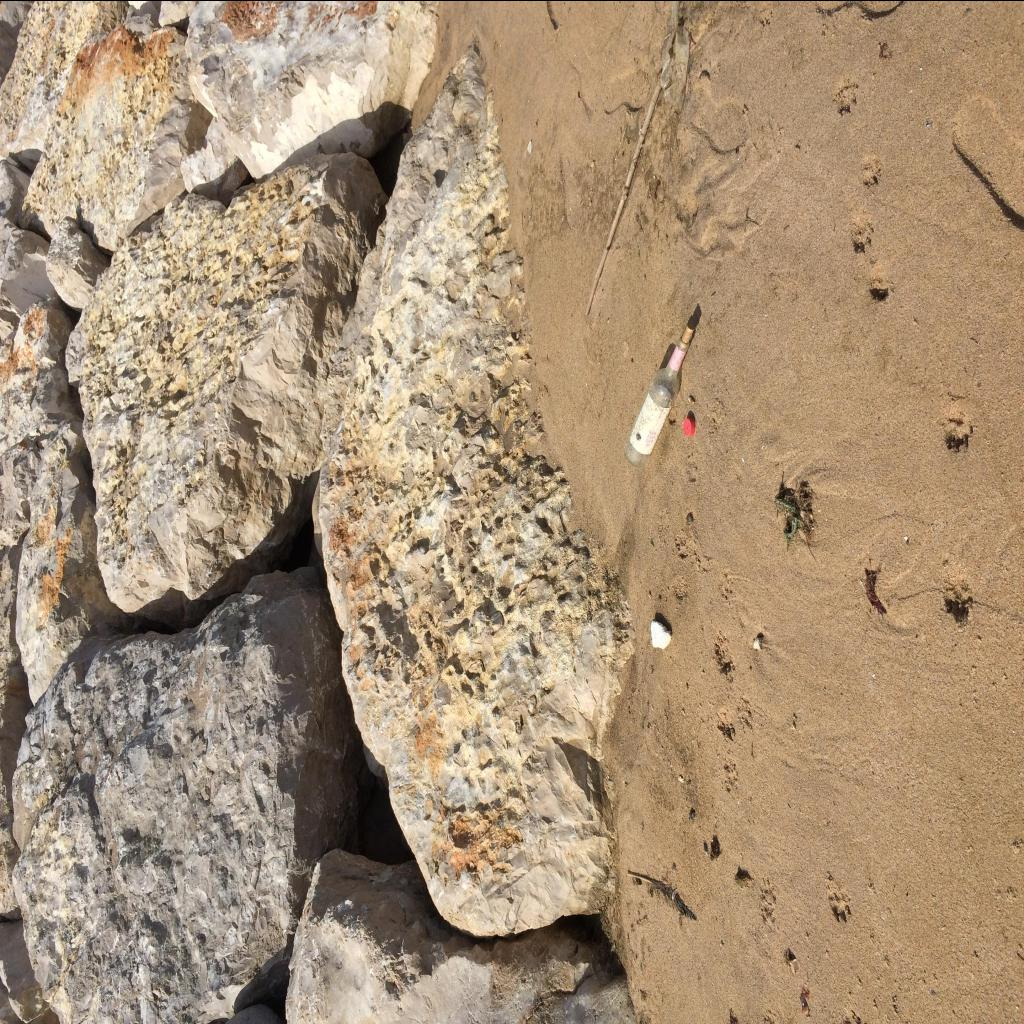Glass bottle: (624, 336, 690, 466)
Plastic bottle cap: (683, 416, 695, 436)
Plastic film: (660, 1, 690, 105)
Rope - strings: (774, 494, 798, 542)
Styrofoam piece: (650, 620, 672, 648)
